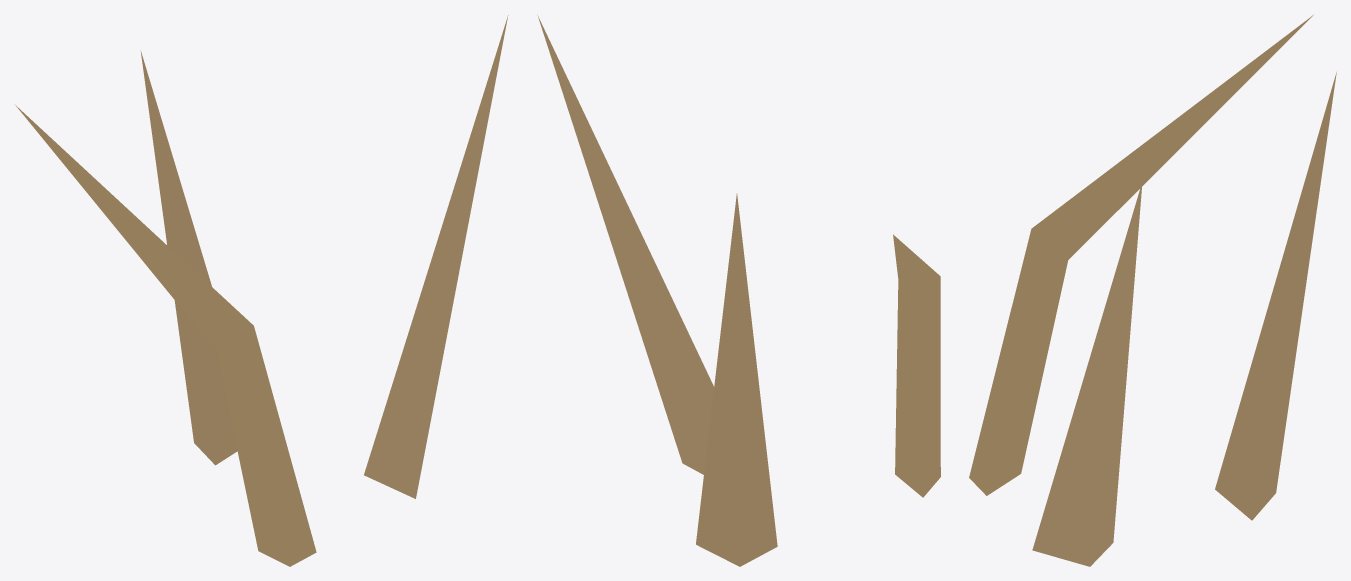
The model's file is Grass3D_b_02.fbx.
3 renders of one model, left to right at view 1: azimuth 30°, elevation 25°; view 2: azimuth 150°, elevation 25°; view 3: azimuth 270°, elevation 25°, orthographic. The views are drawn at different scales.
Parts seen in each view (by area): view 1: Grass3D_b_02; view 2: Grass3D_b_02; view 3: Grass3D_b_02.
Boxes of the visible parts, x1=… form: Grass3D_b_02: x1=15, y1=15, x2=508, y2=566; Grass3D_b_02: x1=537, y1=15, x2=940, y2=566; Grass3D_b_02: x1=969, y1=15, x2=1336, y2=566.
Size of the model in its own units: 0.4714 by 0.458 by 0.3362.
